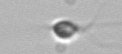plankton: (28, 14, 117, 43)
